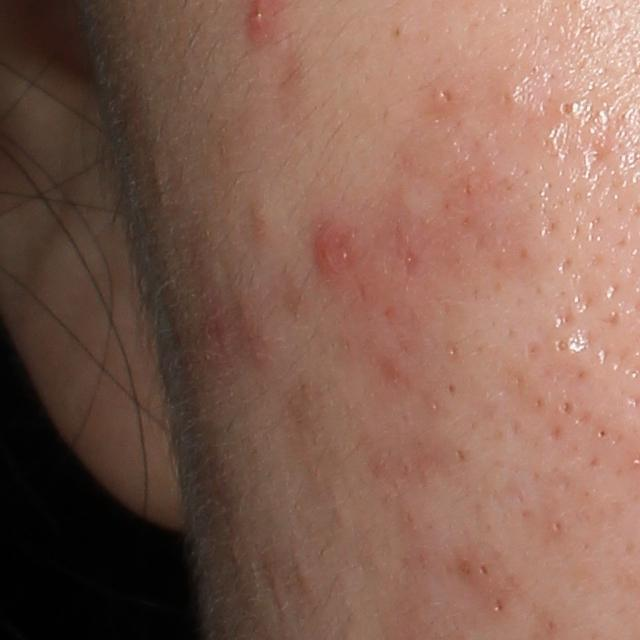comedo: (553, 94, 582, 122), (593, 421, 612, 442), (551, 516, 568, 537), (557, 397, 574, 417), (478, 560, 490, 577)
papule: (308, 225, 347, 280)
